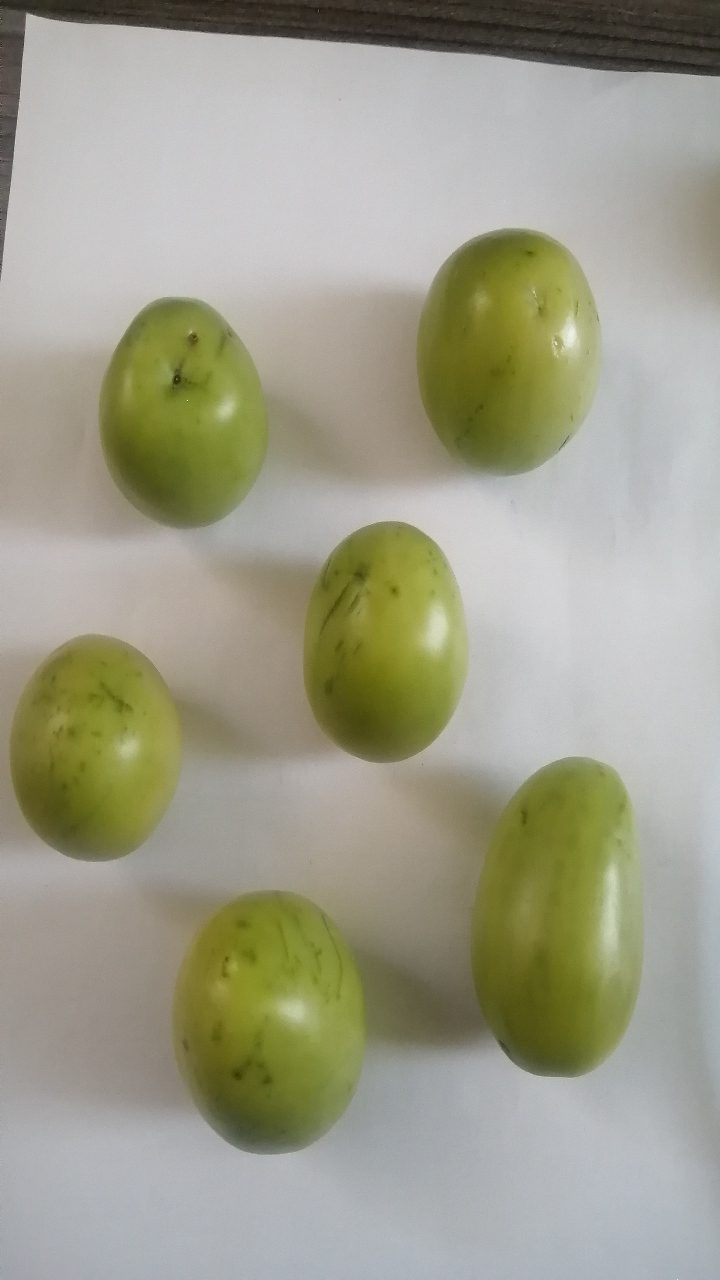tomateVerde: (451, 746, 680, 1114), (157, 874, 391, 1169), (398, 211, 615, 486), (80, 275, 283, 552), (9, 609, 203, 883), (294, 505, 477, 772)
